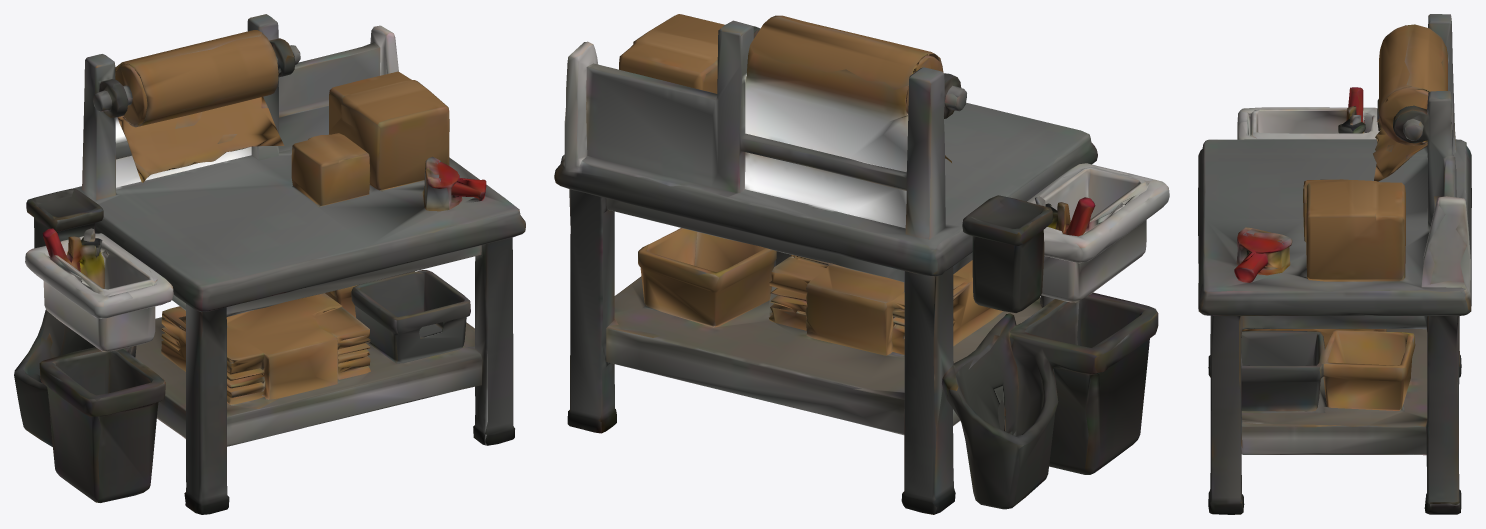
The model's file is packing_station.glb.
3 renders of one model, left to right at view 1: azimuth 30°, elevation 25°; view 2: azimuth 150°, elevation 25°; view 3: azimuth 270°, elevation 25°, orthographic. The views are drawn at different scales.
Parts seen in each view (by area): view 1: geometry_0; view 2: geometry_0; view 3: geometry_0.
Part boxes in pixels (x1,y1,x2,y2): geometry_0: [14, 14, 525, 514]; geometry_0: [554, 14, 1169, 514]; geometry_0: [1198, 14, 1471, 514].
Bounding box in the file's own units: 1 × 0.8517 × 0.5907.
Materials: 1 (1 with a texture image).
